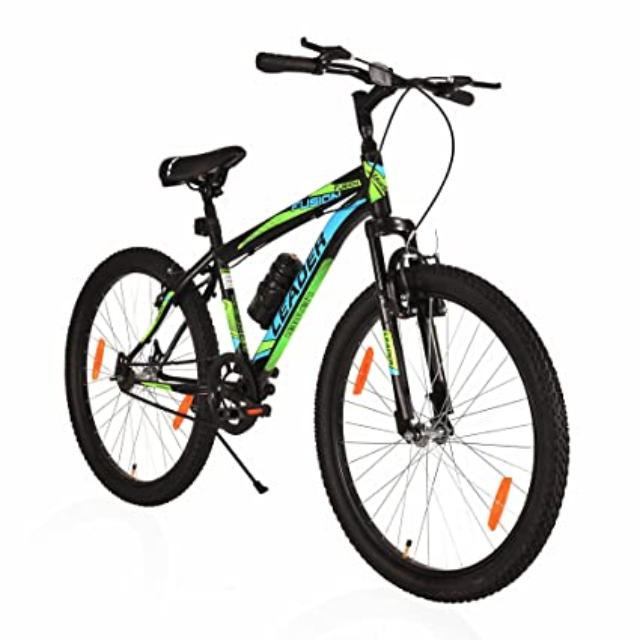obstacle: (22, 18, 628, 618)
